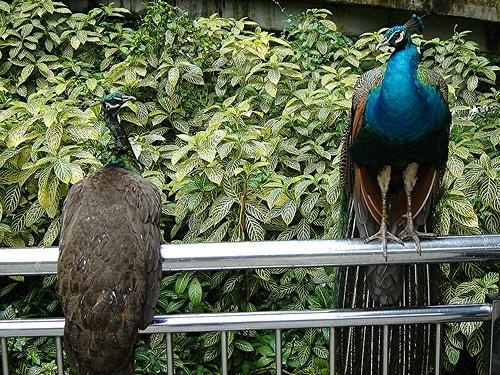bird: (330, 11, 454, 368), (55, 93, 167, 371)
